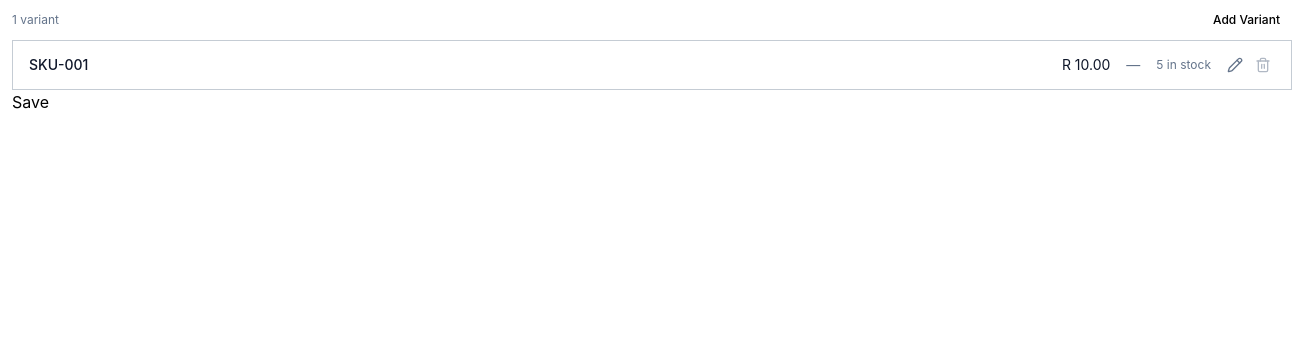
Scenario: VariantFields — attribute editor › quick-adds Colour and Size, hiding each chip once its key is present
What coordinates should you click on to do the following:
click the button with test id "edit-variant-0"
I would click on:
 (1235, 65)
Its box is [1223, 53, 1247, 77].
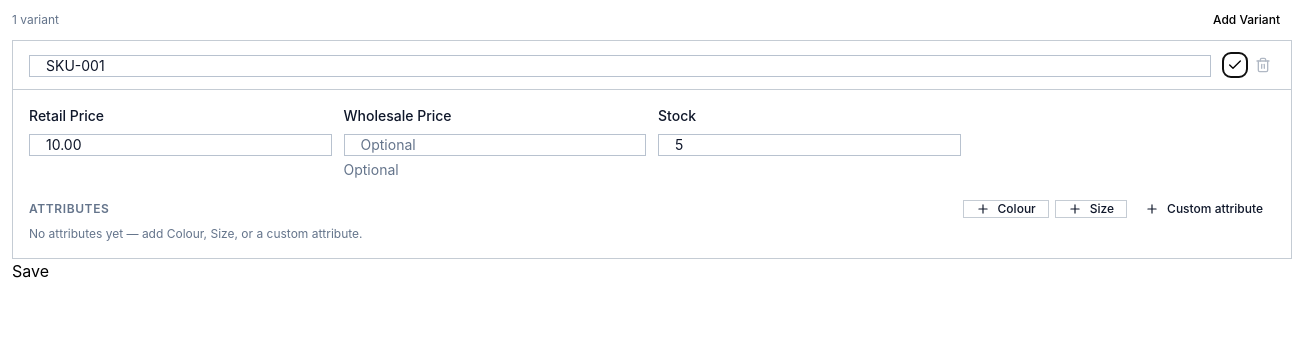
Check: the button with test id "add-attribute-colour-0" is shown
Check: the button with test id "add-attribute-size-0" is shown, box [1055, 200, 1127, 218]
What coordinates should you click on to do the following:
click the button with test id "add-attribute-colour-0"
I would click on:
 (1006, 209)
Its box is [963, 200, 1049, 218].
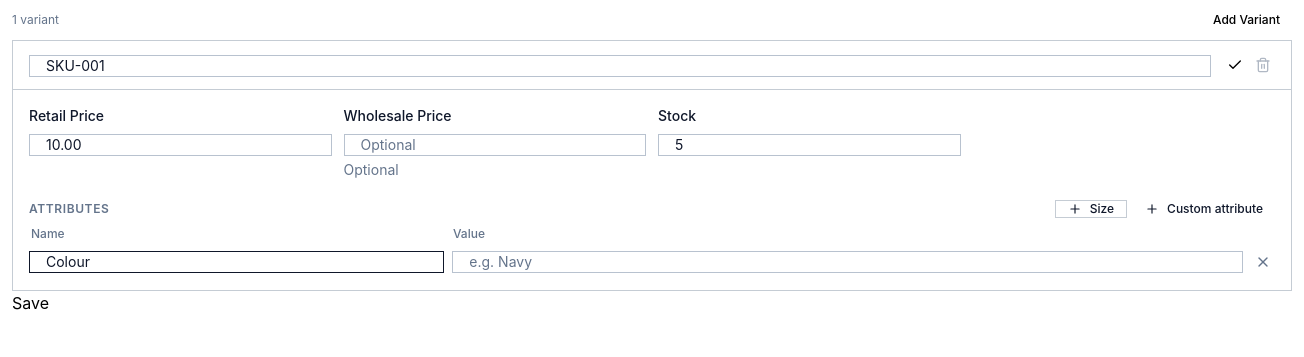
Check: the button with test id "add-attribute-size-0" is shown
Check: the button with test id "add-attribute-colour-0" is gone
Check: the field named "Attribute name (row 1)" holds "Colour", box [29, 251, 444, 273]
What coordinates should you click on to do the following:
click the button with test id "add-attribute-size-0"
I would click on:
 (1091, 209)
Its box is [1055, 200, 1127, 218].
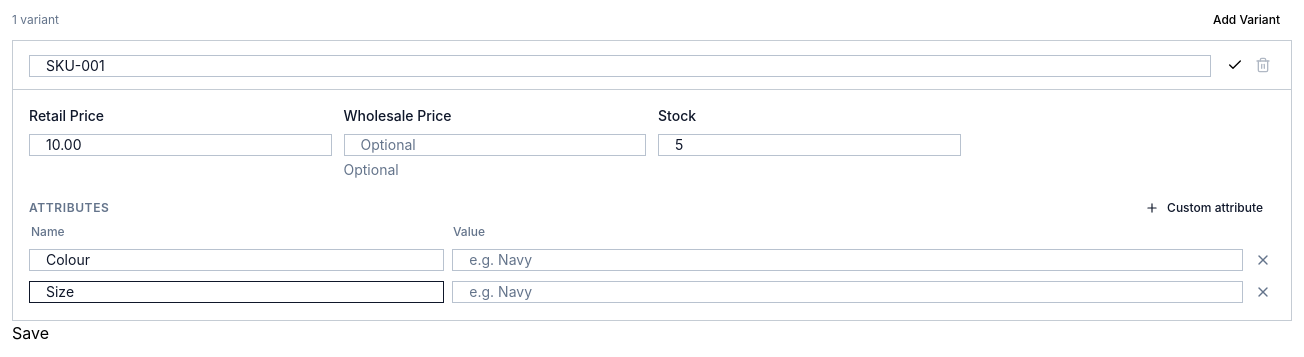
Check: the button with test id "add-attribute-size-0" is gone
